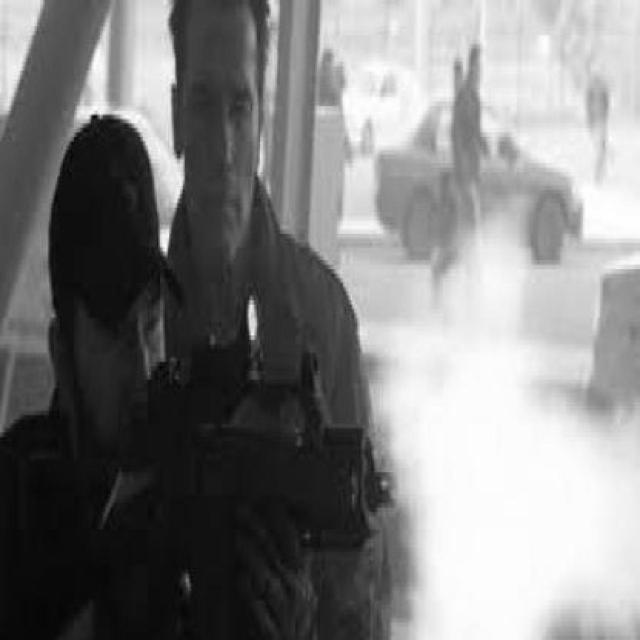weapon: (103, 288, 402, 583)
